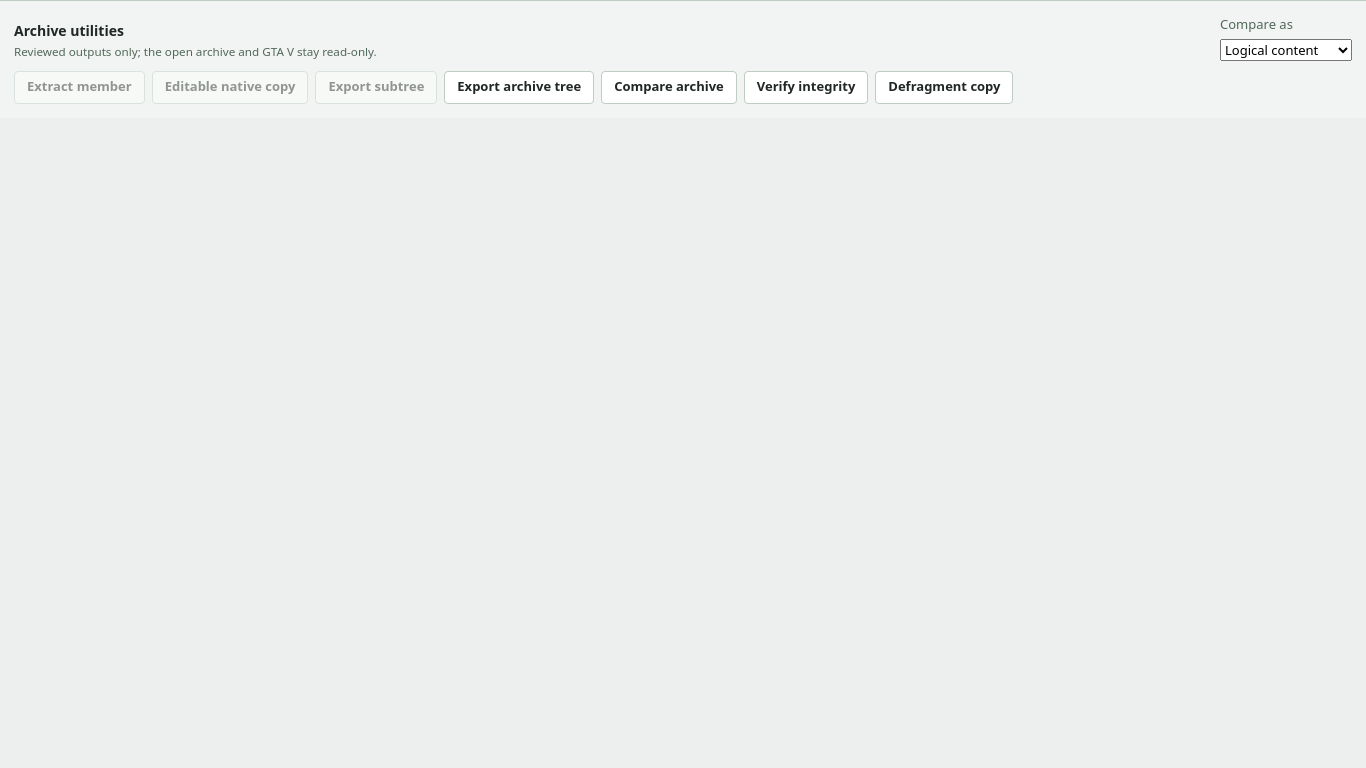
Test case: reviews and confirms a full archive integrity report without authorizing a game write
The width and height of the screenshot is (1366, 768).
Click the button "Verify integrity" at {"x": 806, "y": 87}, box [744,70,868,104]
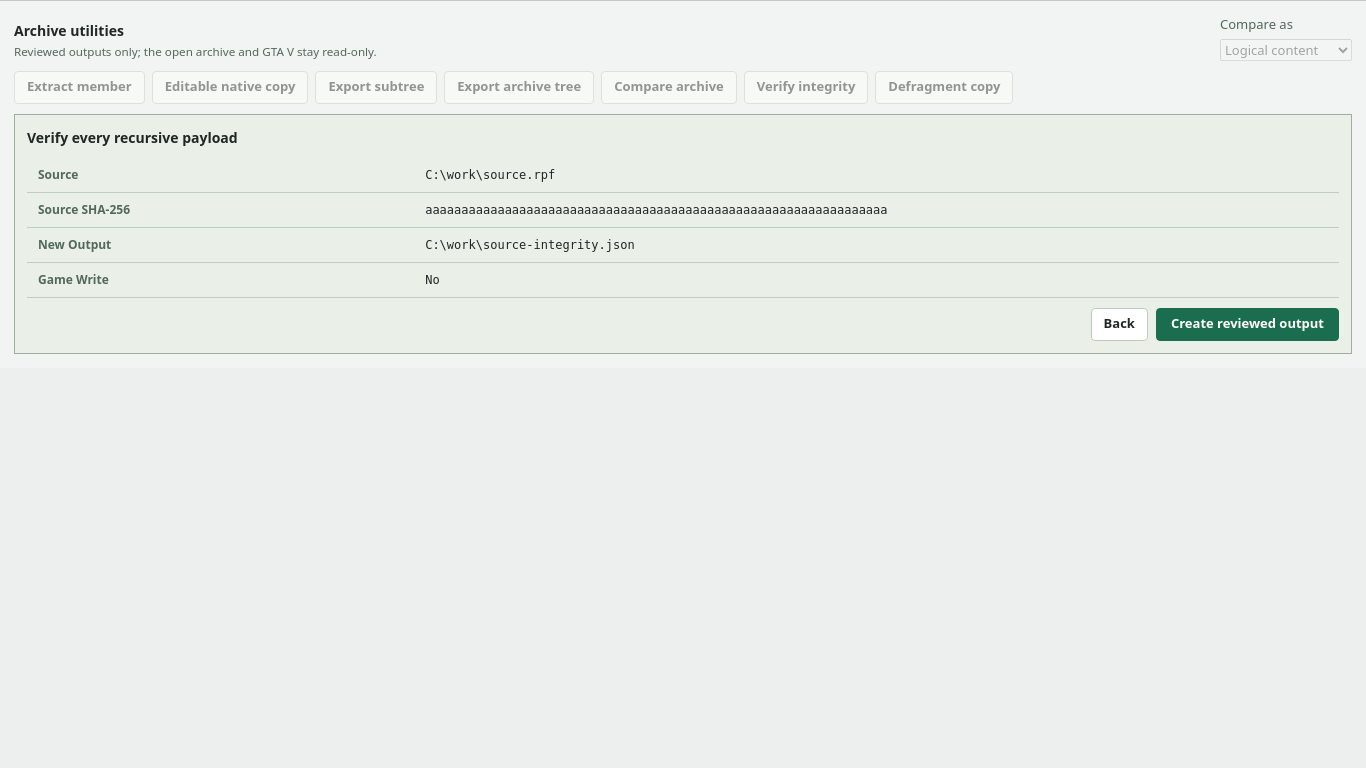
Now the dialog named "Review RPF utility output" is shown, box [14,114,1352,354]
Click the button "Create reviewed output" at {"x": 1247, "y": 324}, box [1156,308,1339,340]
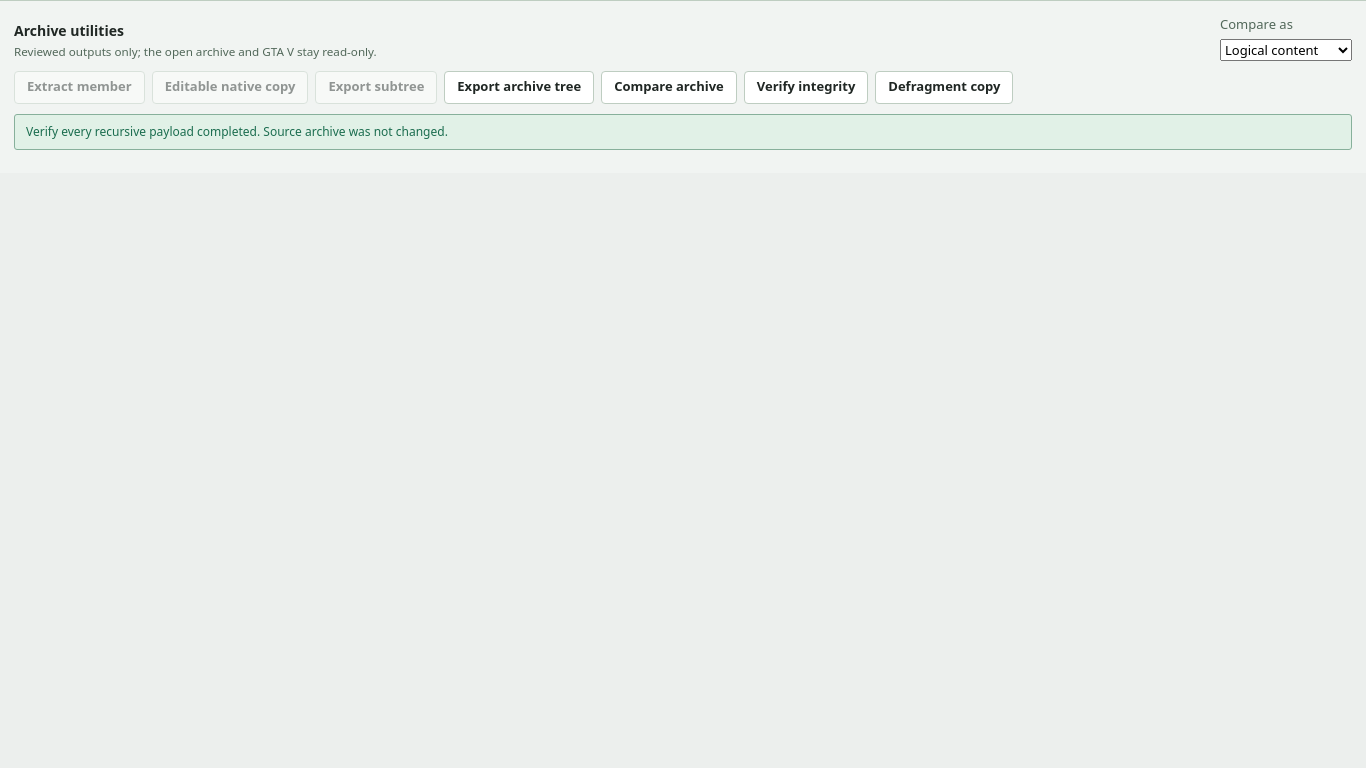
Now the text "Verify every recursive payload completed. Source archive was not changed." is shown, box [14,114,1352,150]
